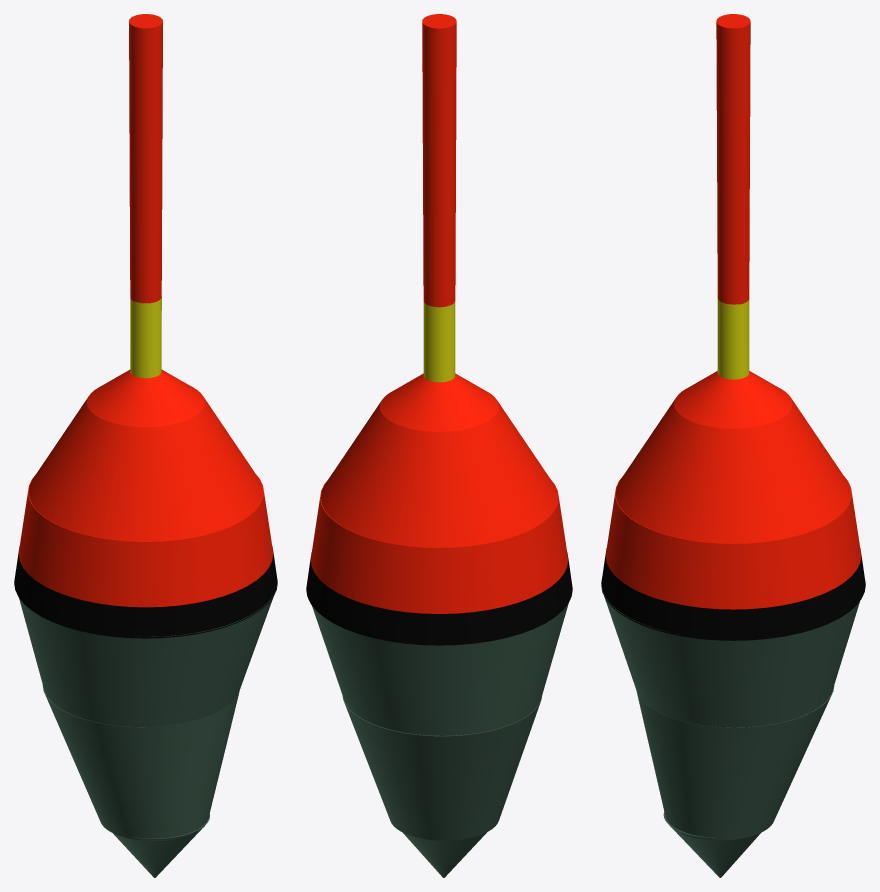
The model's file is Floater.fbx.
The picture shows the model from 3 angles, left to right: view 1: azimuth 30°, elevation 25°; view 2: azimuth 150°, elevation 25°; view 3: azimuth 270°, elevation 25°; orthographic projection.
Parts seen in each view (by area): view 1: Cylinder_Clone_, Cylinder_Clone__1, Cylinder, Cylinder_Clone__Clone__1, Cylinder_Clone__Clone__Clone__1, Cylinder_Clone__2, Cylinder_Clone__Clone_, Cylinder_Clone__Clone__Clone__Clone_, Cylinder_Clone__Clone__Clone_; view 2: Cylinder_Clone_, Cylinder_Clone__1, Cylinder, Cylinder_Clone__Clone__1, Cylinder_Clone__Clone__Clone__1, Cylinder_Clone__2, Cylinder_Clone__Clone_, Cylinder_Clone__Clone__Clone__Clone_, Cylinder_Clone__Clone__Clone_; view 3: Cylinder_Clone_, Cylinder_Clone__1, Cylinder, Cylinder_Clone__Clone__1, Cylinder_Clone__Clone__Clone__1, Cylinder_Clone__2, Cylinder_Clone__Clone_, Cylinder_Clone__Clone__Clone__Clone_, Cylinder_Clone__Clone__Clone_.
Boxes of the visible parts, box(x1,y1,x2,y2) form: Cylinder_Clone_: box(28, 392, 263, 541); Cylinder_Clone__1: box(19, 582, 277, 726); Cylinder: box(18, 476, 273, 607); Cylinder_Clone__Clone__1: box(42, 685, 239, 841); Cylinder_Clone__Clone__Clone__1: box(129, 14, 162, 303); Cylinder_Clone__2: box(14, 546, 277, 638); Cylinder_Clone__Clone_: box(87, 369, 204, 427); Cylinder_Clone__Clone__Clone__Clone_: box(130, 297, 161, 378); Cylinder_Clone__Clone__Clone_: box(113, 814, 209, 877); Cylinder_Clone_: box(320, 399, 558, 547); Cylinder_Clone__1: box(312, 603, 568, 735); Cylinder: box(310, 480, 568, 613); Cylinder_Clone__Clone__1: box(342, 696, 541, 840); Cylinder_Clone__Clone__Clone__1: box(422, 14, 456, 307); Cylinder_Clone__2: box(306, 553, 572, 645); Cylinder_Clone__Clone_: box(380, 373, 498, 431); Cylinder_Clone__Clone__Clone__Clone_: box(423, 301, 455, 382); Cylinder_Clone__Clone__Clone_: box(403, 832, 486, 877); Cylinder_Clone_: box(615, 392, 851, 543); Cylinder_Clone__1: box(601, 577, 859, 727); Cylinder: box(605, 477, 861, 609); Cylinder_Clone__Clone__1: box(637, 686, 834, 840); Cylinder_Clone__Clone__Clone__1: box(716, 14, 750, 304); Cylinder_Clone__2: box(601, 548, 865, 640); Cylinder_Clone__Clone_: box(674, 371, 792, 428); Cylinder_Clone__Clone__Clone__Clone_: box(717, 299, 749, 379); Cylinder_Clone__Clone__Clone_: box(663, 812, 761, 877).
Bounding box in the file's own units: 246 × 877 × 246.
